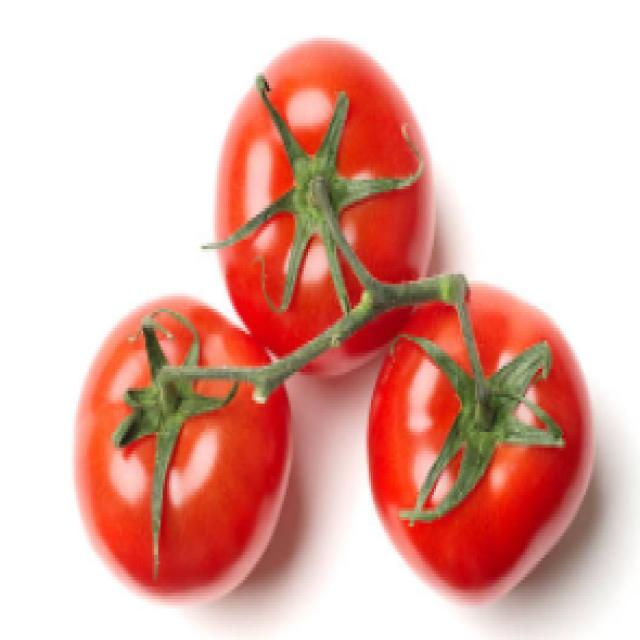Tomato: (191, 31, 447, 372), (76, 270, 293, 615), (372, 264, 588, 609)
